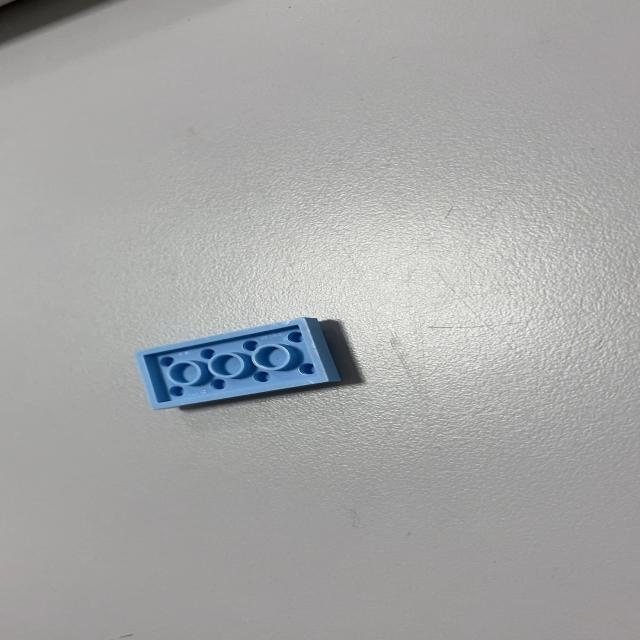C4x2x0: (134, 316, 342, 410)
